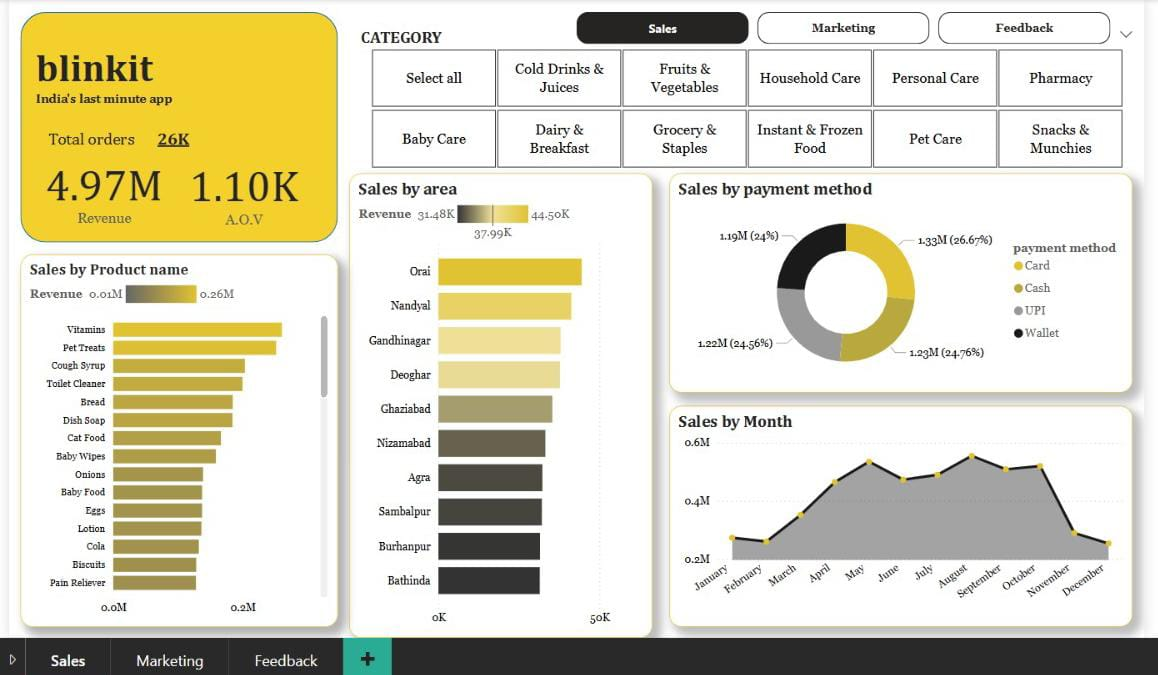

Layout of this report page (visuals, bound fields, positions):
{"tool":"powerbi","page":{"name":"Sales ","canvas":[1280,720],"ordinal":0},"visuals":[{"type":"shape","box":[12,14,358,260],"z":0},{"type":"textbox","box":[25.6,46.3,193.3,86.3],"z":1000},{"type":"card","fields":{"Values":["Sum(blinkit_customers.total_orders)"]},"box":[123,135.8,124.6,44.7],"z":2000},{"type":"textbox","box":[39.9,132.6,178.9,47.9],"z":3000},{"type":"card","fields":{"Values":["blinkit_order_items.Revenue1"]},"box":[12.8,166.2,188.5,95.9],"z":4000},{"type":"slicer","fields":{"Values":["blinkit_products.category"]},"box":[383.4,25.6,896.3,171],"z":5000},{"type":"card","fields":{"Values":["Avg(blinkit_customers.avg_order_value)"]},"box":[191.7,156.6,145.4,118.2],"z":6000},{"type":"clusteredBarChart","title":"Sales by Product name ","fields":{"Category":["blinkit_products.product_name"],"Y":["blinkit_order_items.Revenue1"]},"box":[12.8,287.6,357.9,420.2],"z":7000},{"type":"areaChart","title":"Sales by Month","fields":{"Category":["blinkit_orders.order_date.Variation.Date Hierarchy.Month"],"Y":["Sum(blinkit_order_items.Revenue)"]},"box":[744.5,458.5,522.4,249.2],"z":8000},{"type":"barChart","title":"Sales by area","fields":{"Category":["blinkit_customers.area"],"Y":["blinkit_order_items.Revenue1"]},"box":[383.4,196.5,341.9,524],"z":9000},{"type":"donutChart","title":"Sales by  payment method","fields":{"Y":["blinkit_order_items.Revenue1"],"Category":["blinkit_orders.payment_method"]},"box":[744.5,196.5,522.4,247.6],"z":10000},{"type":"pageNavigator","box":[640,14,602,36],"z":11000}]}

Visuals, with their boxes on the page's 1280x720 design canvas (x1, y1, x2, y2). These are canvas units, not pixel positions in the 1158x675 screenshot, which may show the page scaled, cropped or inside an application window:
shape: bbox=[12, 14, 370, 274]
textbox: bbox=[26, 46, 219, 133]
card - Sum(blinkit_customers.total_orders): bbox=[123, 136, 248, 180]
textbox: bbox=[40, 133, 219, 180]
card - blinkit_order_items.Revenue1: bbox=[13, 166, 201, 262]
slicer - blinkit_products.category: bbox=[383, 26, 1280, 197]
card - Avg(blinkit_customers.avg_order_value): bbox=[192, 157, 337, 275]
"Sales by Product name " clusteredBarChart: bbox=[13, 288, 371, 708]
"Sales by Month" areaChart: bbox=[744, 458, 1267, 708]
"Sales by area" barChart: bbox=[383, 196, 725, 720]
"Sales by  payment method" donutChart: bbox=[744, 196, 1267, 444]
pageNavigator: bbox=[640, 14, 1242, 50]
